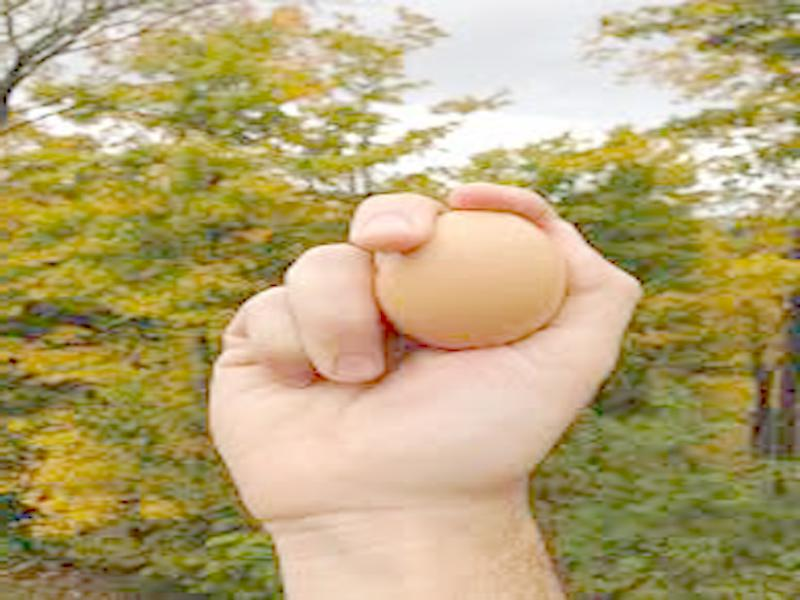Eggs: (366, 211, 564, 347)
